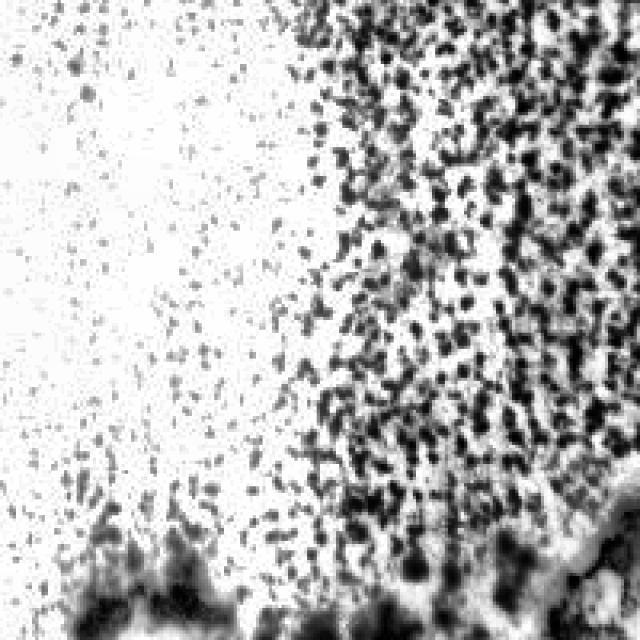Rolled_in_Scale: (234, 0, 634, 554)
Scratches: (493, 499, 637, 637), (61, 528, 228, 637)
